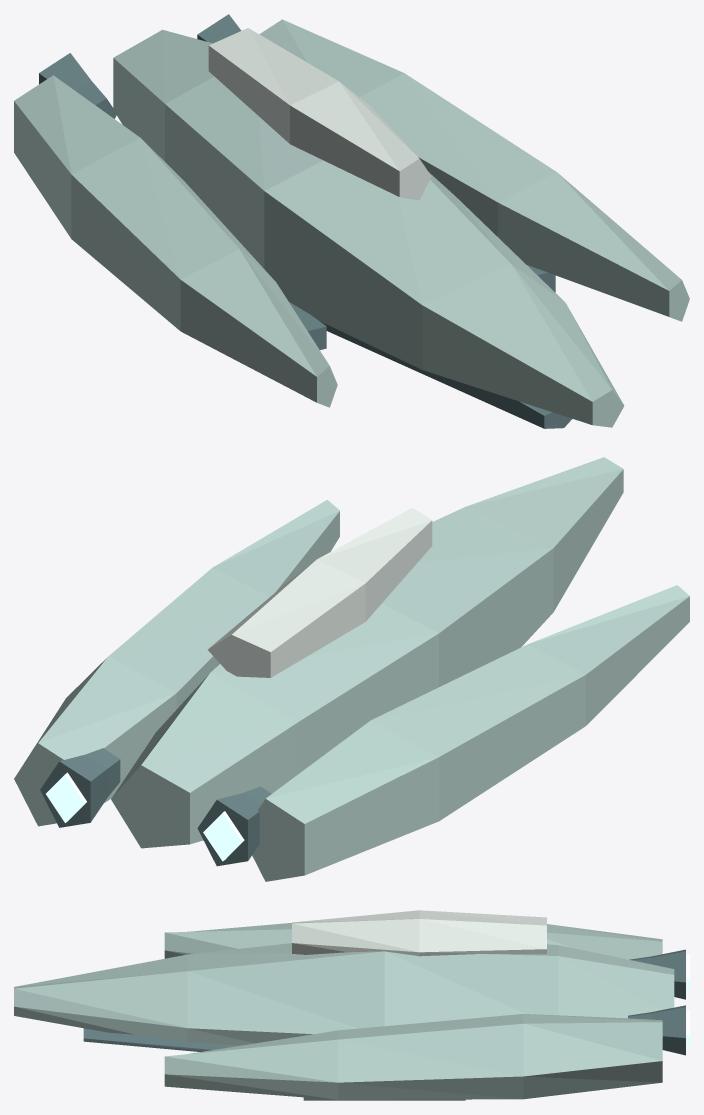
3 views of the same model, one above another, from view 1: azimuth 30°, elevation 25°; view 2: azimuth 150°, elevation 25°; view 3: azimuth 270°, elevation 25° (orthographic). The views are drawn at different scales.
Size of the model in its own units: 6.39 by 3.01 by 12.57.
